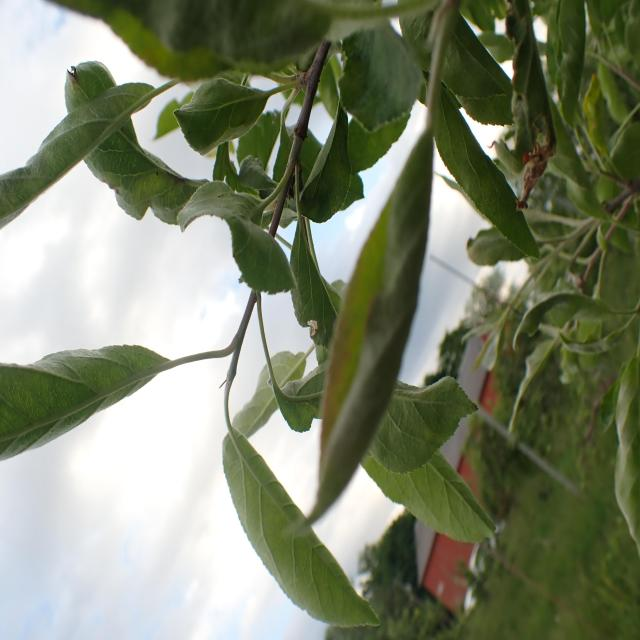Powdery_mildew: (305, 112, 435, 555)
